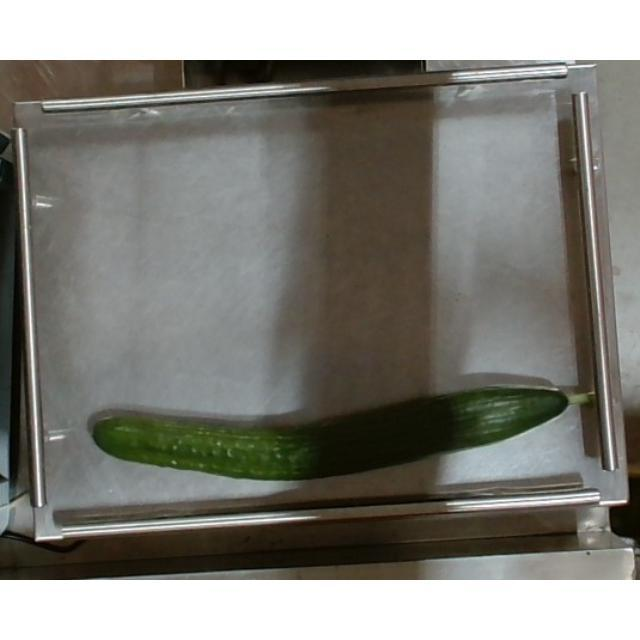cucumber: (92, 388, 592, 478)
